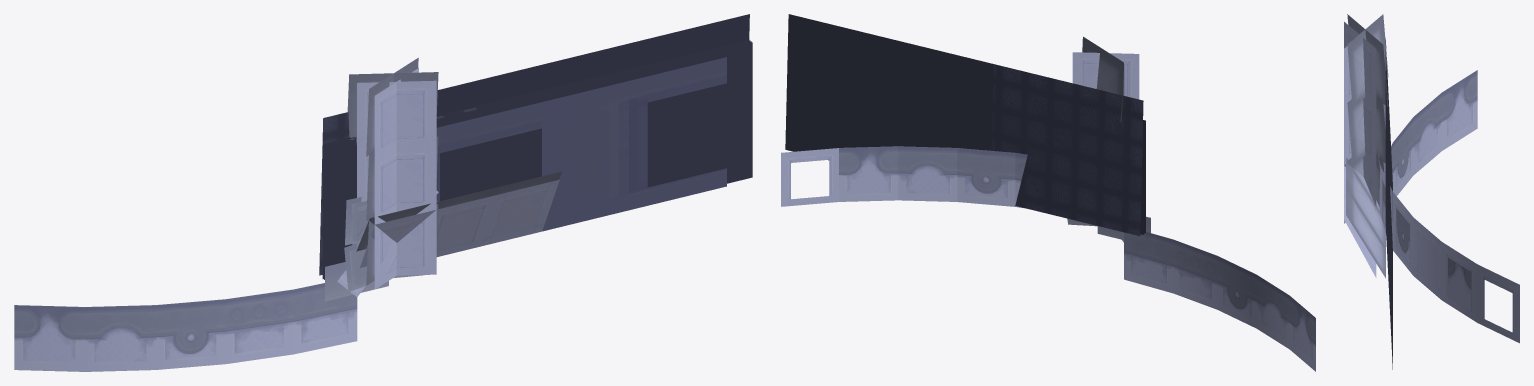
The model's file is floor_base.glb.
The picture shows the model from 3 angles, left to right: view 1: azimuth 30°, elevation 25°; view 2: azimuth 150°, elevation 25°; view 3: azimuth 270°, elevation 25°; orthographic projection. The views are drawn at different scales.
Visible parts, largest first — view 1: rsrc.world.tileset.clockworks_white.floor.floor_base-Variant (×22); view 2: rsrc.world.tileset.clockworks_white.floor.floor_base-Variant (×8); view 3: rsrc.world.tileset.clockworks_white.floor.floor_base-Variant (×17).
Part boxes in pixels (bbox=[...]): rsrc.world.tileset.clockworks_white.floor.floor_base-Variant (×22): bbox=[14, 14, 752, 371]; rsrc.world.tileset.clockworks_white.floor.floor_base-Variant (×8): bbox=[781, 14, 1315, 371]; rsrc.world.tileset.clockworks_white.floor.floor_base-Variant (×17): bbox=[1344, 14, 1519, 369].
Bounding box in the file's own units: 11.12 × 4.11 × 2.74.
11 materials, 11 textured.
